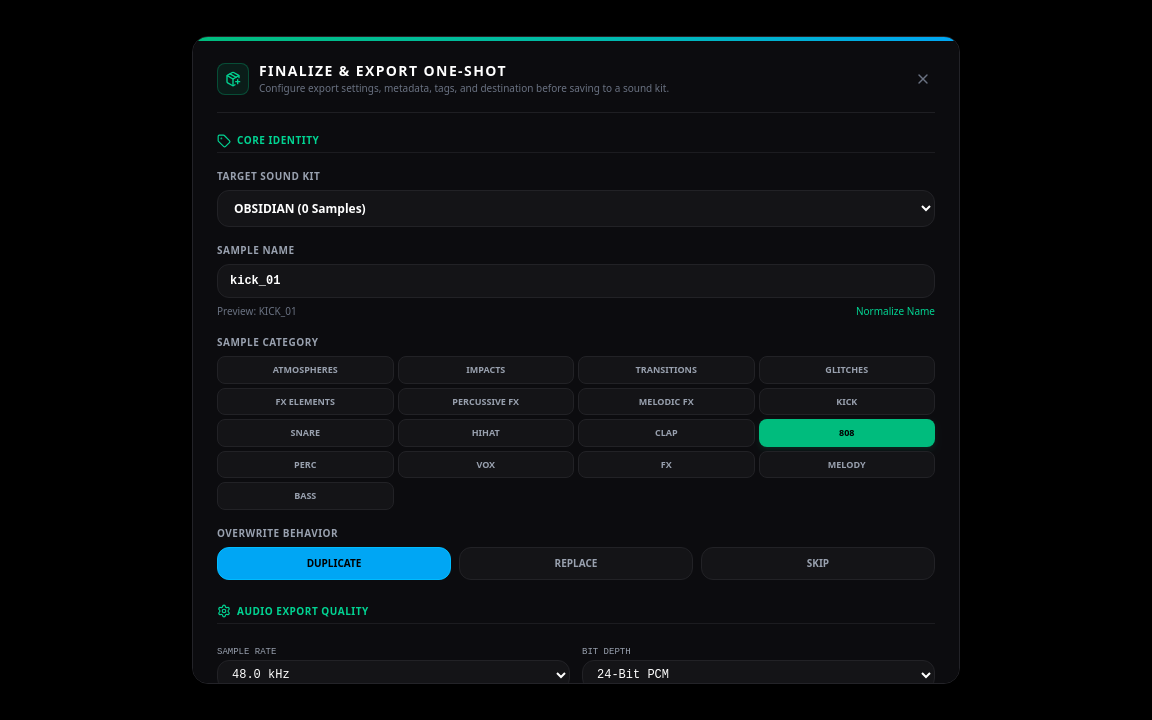
Test case: AddToKitModal › normalizes the sample name via the button
Replace the text in the field showing "kick_01" with "my kick !!!" at (576, 281), box [217,264,935,298]
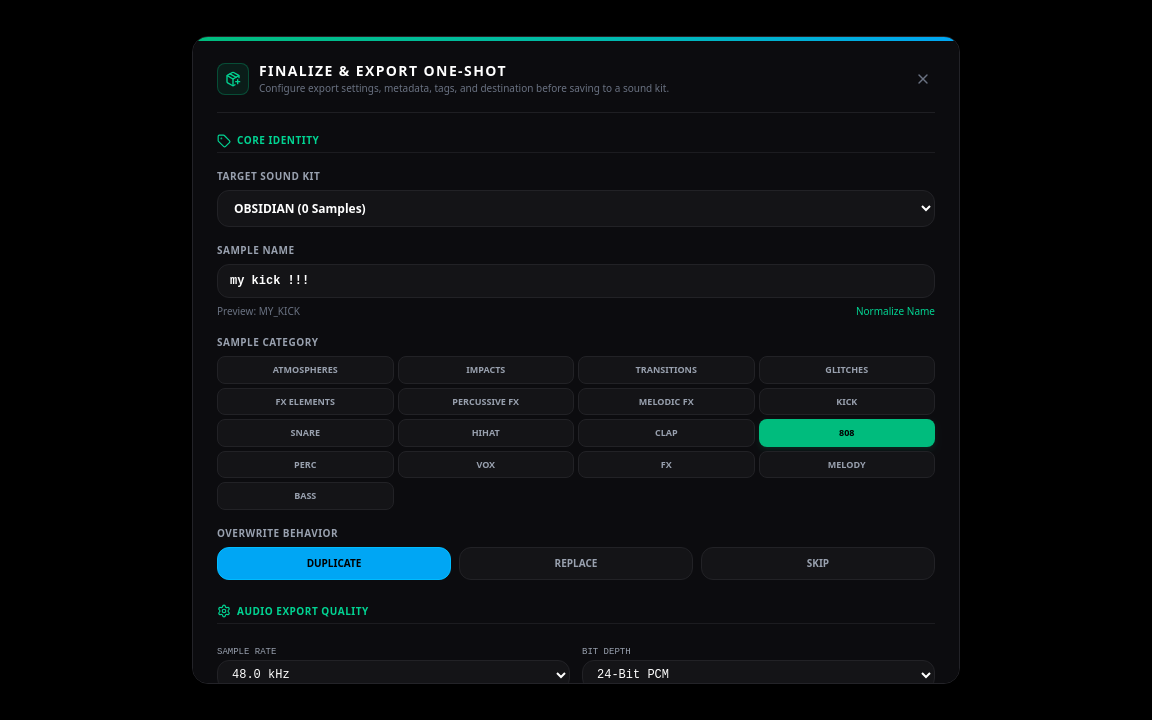
Click the button "Normalize Name" at (896, 312), box [856,304,935,319]
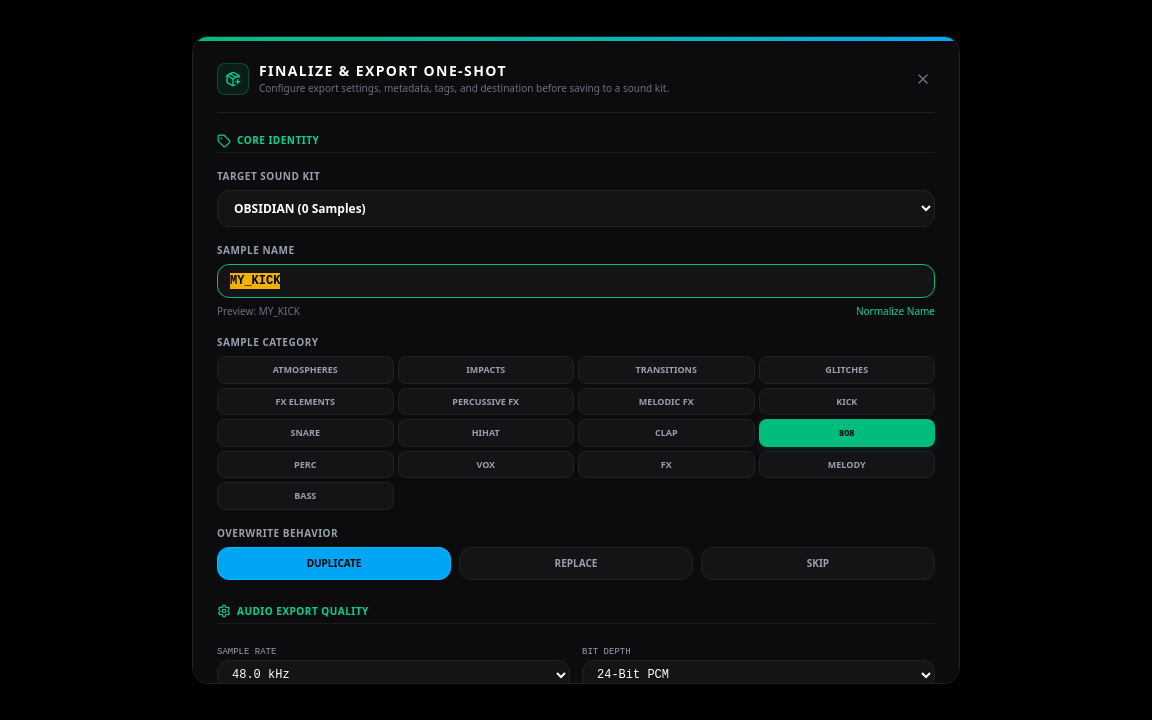
Expected: the field showing "MY_KICK" is shown, [217,264,935,298]
